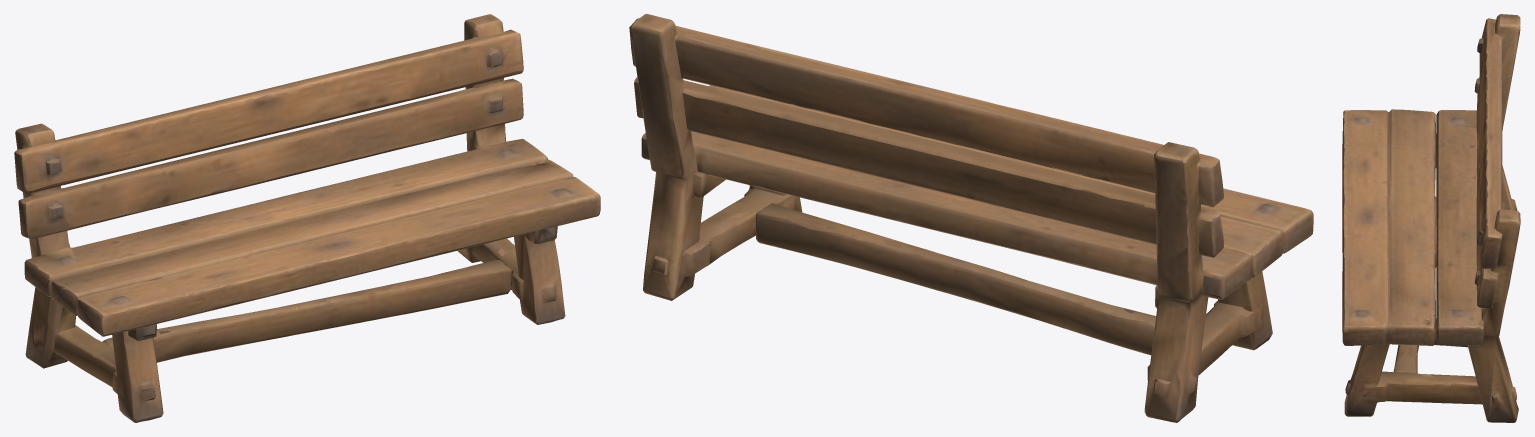
3 views of the same model, side by side, from view 1: azimuth 30°, elevation 25°; view 2: azimuth 150°, elevation 25°; view 3: azimuth 270°, elevation 25° (orthographic). The views are drawn at different scales.
Visible parts, largest first — view 1: geometry_0; view 2: geometry_0; view 3: geometry_0.
Part boxes in pixels (x1,y1,x2,y2): geometry_0: [14, 14, 600, 422]; geometry_0: [629, 14, 1313, 422]; geometry_0: [1342, 14, 1520, 422].
Size of the model in its own units: 1.8 by 0.7982 by 0.6216.
Materials: 1 (1 with a texture image).
